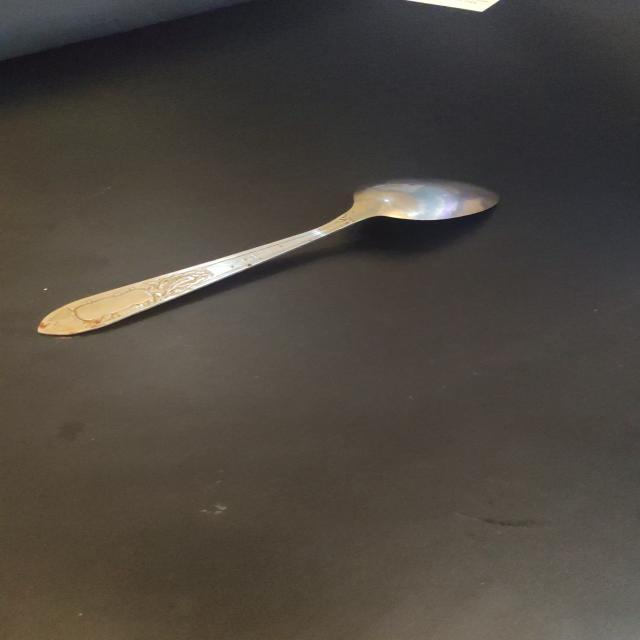plastic utensil: (38, 180, 498, 335)
